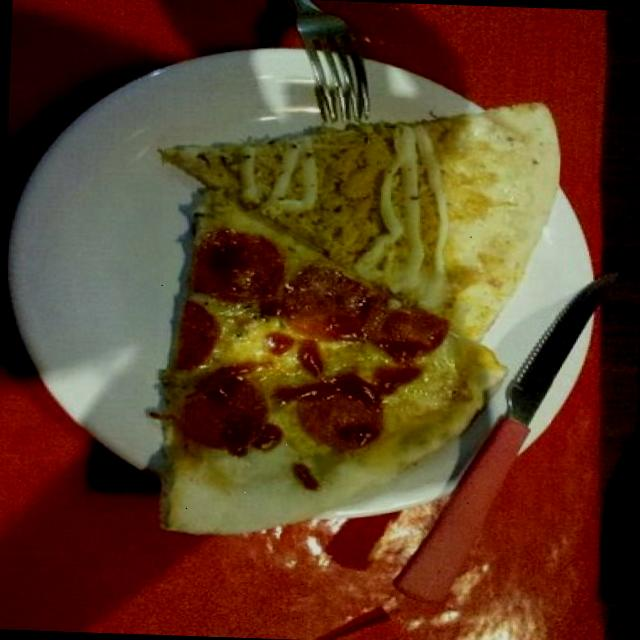pepperoni: (192, 220, 284, 308), (182, 368, 267, 459), (274, 262, 373, 340), (292, 381, 382, 450), (370, 304, 450, 366), (176, 304, 218, 371)
pizza: (163, 104, 557, 531), (161, 105, 556, 339)
